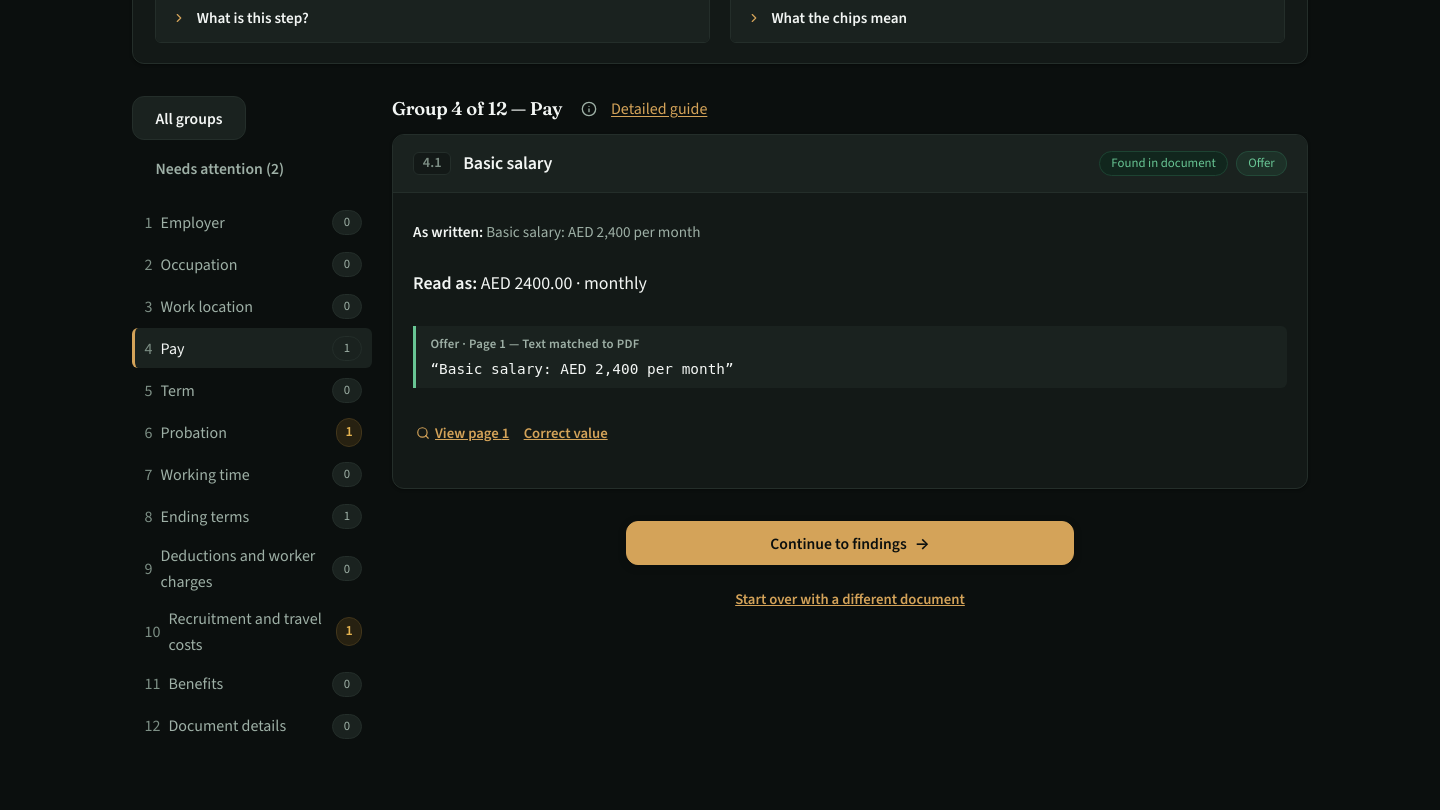
Test: Review count semantics and card states (R22, issues 7/9/28) › empty group shows the state-specific message instead of vanishing (issue 9)
(page scrolled)
Click the button "7 Working time 0".
click(252, 474)  # box [132, 454, 372, 494]
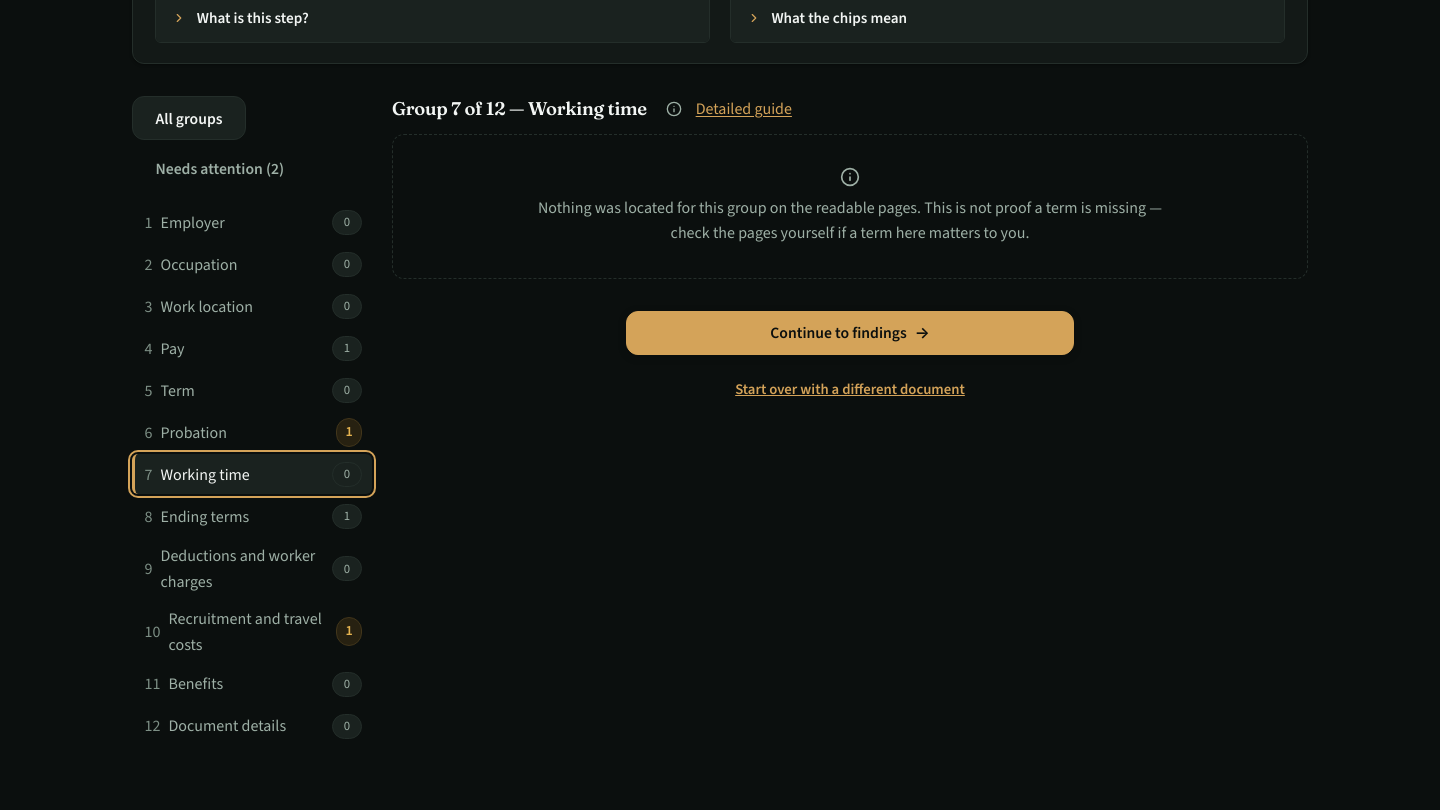
Expected: the text "Nothing was located for this group" is shown, [538, 197, 1162, 243]
